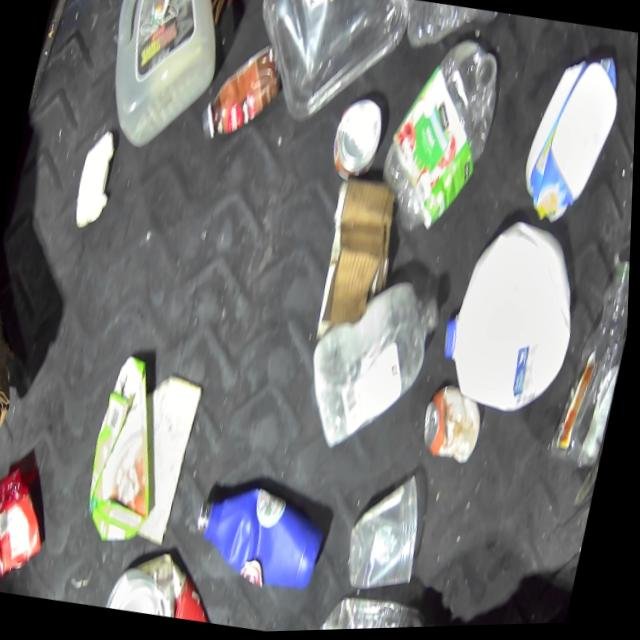can: (107, 551, 232, 628), (418, 384, 493, 471)
milk_jug: (431, 219, 591, 422)
non_white_jug: (98, 0, 225, 156)
plastic_bottle: (550, 256, 632, 479), (310, 590, 419, 632)
